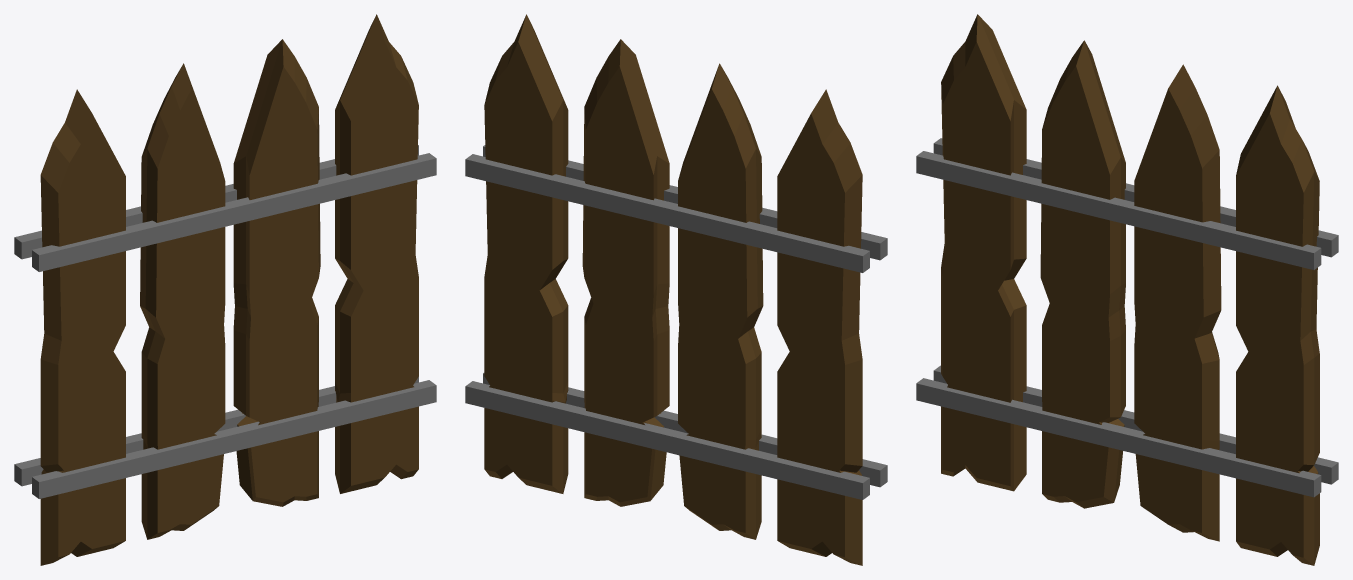
The model's file is Płotek.fbx.
3 renders of one model, left to right at view 1: azimuth 30°, elevation 25°; view 2: azimuth 150°, elevation 25°; view 3: azimuth 330°, elevation 25°, orthographic.
Parts seen in each view (by area): view 1: Sztachety, Sreberko; view 2: Sztachety, Sreberko; view 3: Sztachety, Sreberko.
Boxes of the visible parts, box(x1,y1,x2,y2) form: Sztachety: box(40, 14, 418, 565); Sreberko: box(14, 145, 436, 498); Sztachety: box(484, 14, 862, 565); Sreberko: box(465, 145, 887, 499); Sztachety: box(941, 14, 1319, 565); Sreberko: box(916, 138, 1338, 497).
Size of the model in its own units: 270 by 306 by 29.
